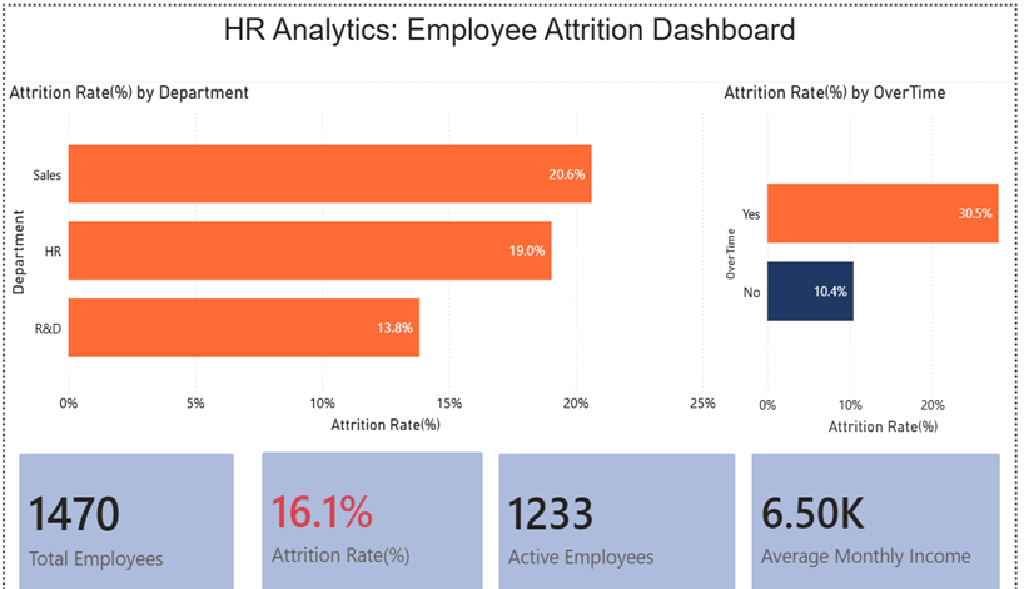

The page's visual inventory and layout, read from the dashboard file:
{"tool":"powerbi","page":{"name":"Executive Summary","canvas":[1280,720],"ordinal":0},"visuals":[{"type":"cardVisual","fields":{"Data":["HR_cleaned.Total Employees"]},"box":[0,515.1,308.7,204.6],"z":0},{"type":"cardVisual","fields":{"Data":["HR_cleaned.Attrition Rate"]},"box":[308.3,514.6,316.7,204.2],"z":1000},{"type":"cardVisual","fields":{"Data":["HR_cleaned.Active Employees"]},"box":[608.1,515.1,336.6,204.6],"z":2000},{"type":"cardVisual","fields":{"Data":["HR_cleaned.Average Monthly Income"]},"box":[927.9,515.1,351.5,204.6],"z":3000},{"type":"textbox","box":[0,0,1280,90],"z":4000},{"type":"clusteredBarChart","fields":{"Category":["HR_cleaned.Department"],"Y":["HR_cleaned.Attrition Rate"]},"box":[0,90,906,424],"z":5000},{"type":"clusteredBarChart","fields":{"Category":["HR_cleaned.OverTime"],"Y":["HR_cleaned.Attrition Rate"]},"box":[906,90,374,426],"z":6000}]}

Visuals, with their boxes in screenshot pixels (x1, y1, x2, y2), scaled from the page's 1280x720 canvas onto the 1028x589 screenshot:
cardVisual - HR_cleaned.Total Employees: Rect(0, 421, 248, 588)
cardVisual - HR_cleaned.Attrition Rate: Rect(248, 421, 502, 588)
cardVisual - HR_cleaned.Active Employees: Rect(488, 421, 759, 588)
cardVisual - HR_cleaned.Average Monthly Income: Rect(745, 421, 1027, 588)
textbox: Rect(0, 0, 1027, 74)
clusteredBarChart - HR_cleaned.Department x HR_cleaned.Attrition Rate: Rect(0, 74, 728, 420)
clusteredBarChart - HR_cleaned.OverTime x HR_cleaned.Attrition Rate: Rect(728, 74, 1027, 422)
